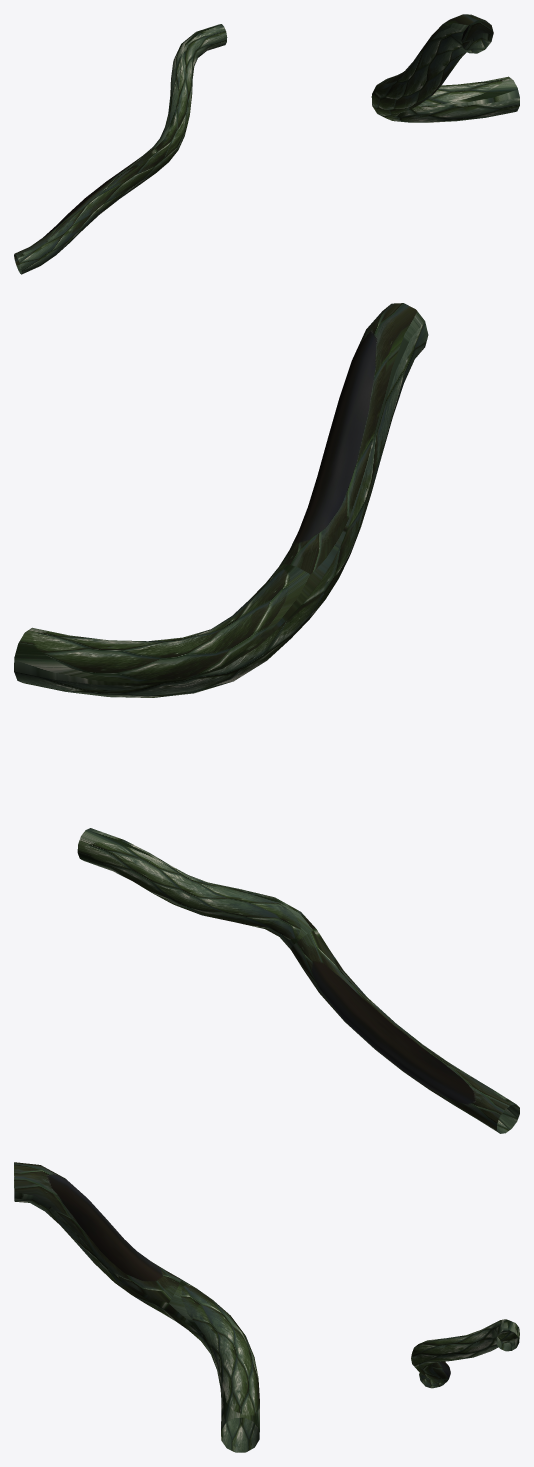
Rendered from Tubing.glb.
3 views of the same model, one above another, from view 1: azimuth 30°, elevation 25°; view 2: azimuth 150°, elevation 25°; view 3: azimuth 270°, elevation 25° (orthographic). The views are drawn at different scales.
Parts seen in each view (by area): view 1: Tubing; view 2: Tubing; view 3: Tubing.
Part boxes in pixels (bbox=[...]): Tubing: bbox=[14, 14, 519, 274]; Tubing: bbox=[14, 303, 519, 1133]; Tubing: bbox=[14, 1162, 519, 1452].
Size of what is drawn, in the model's own units: 60.17 by 47.18 by 60.76.
Materials: 1 (1 with a texture image).
